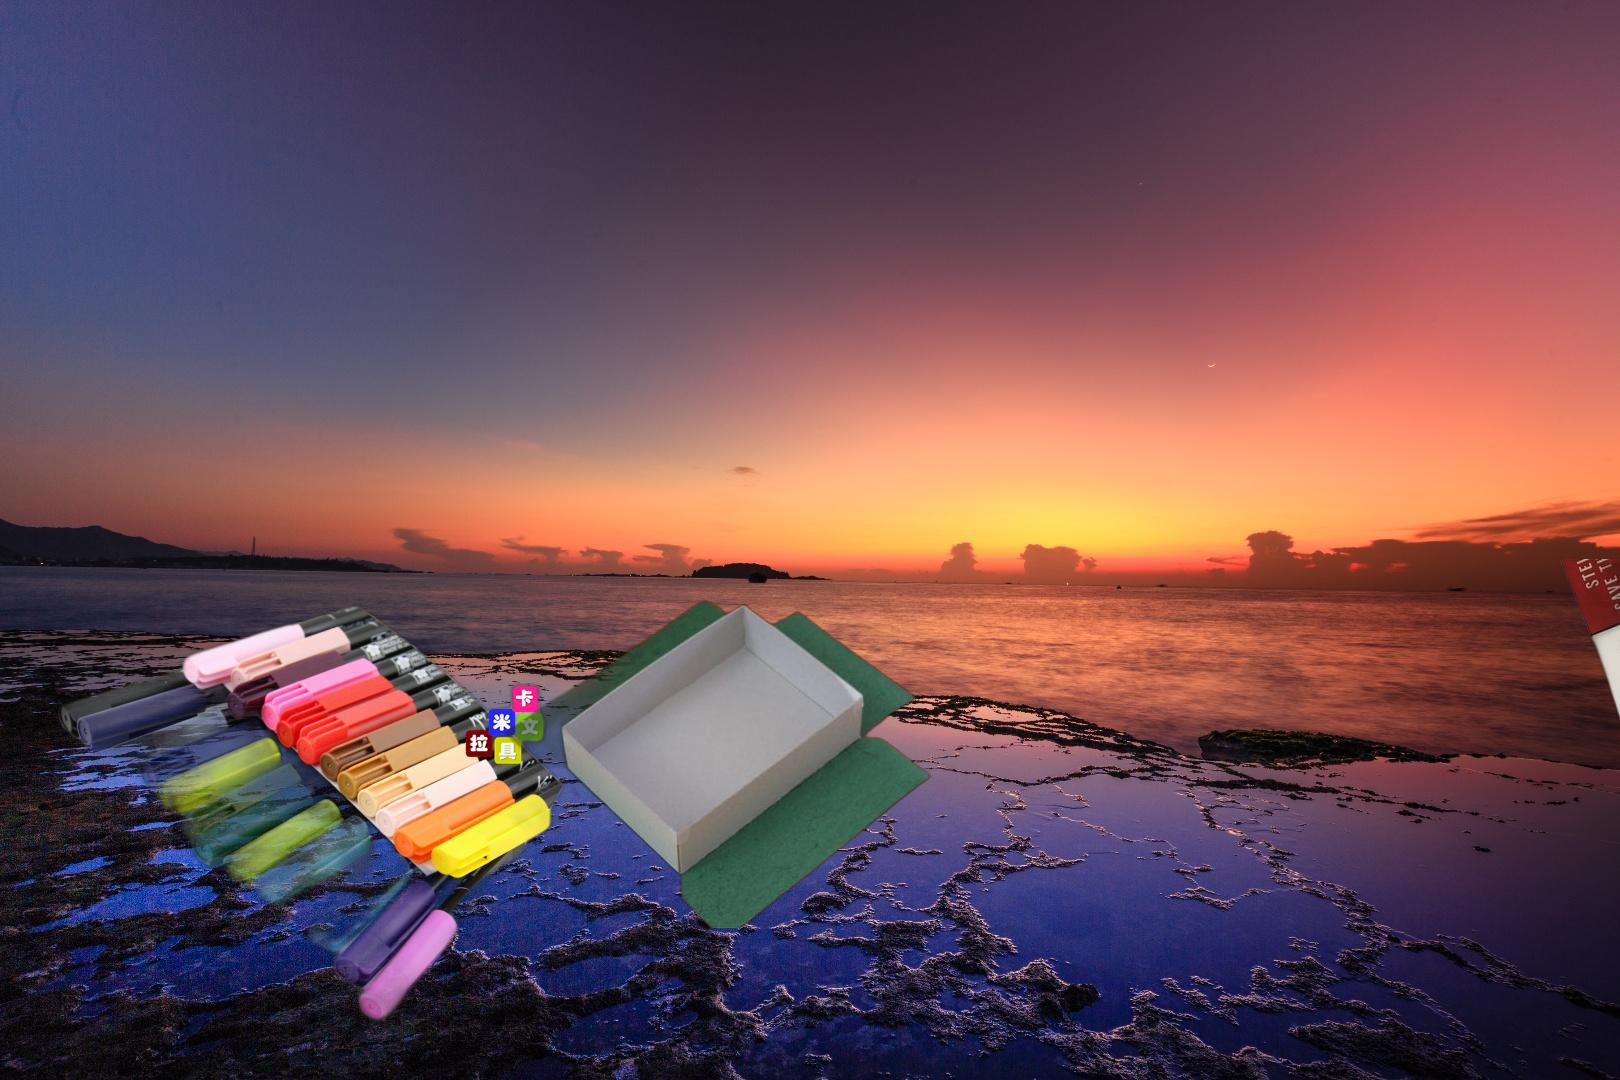paper: (1542, 559, 1620, 905)
penholder: (10, 556, 799, 1080)
trashbox-cardboard: (501, 598, 934, 928)
